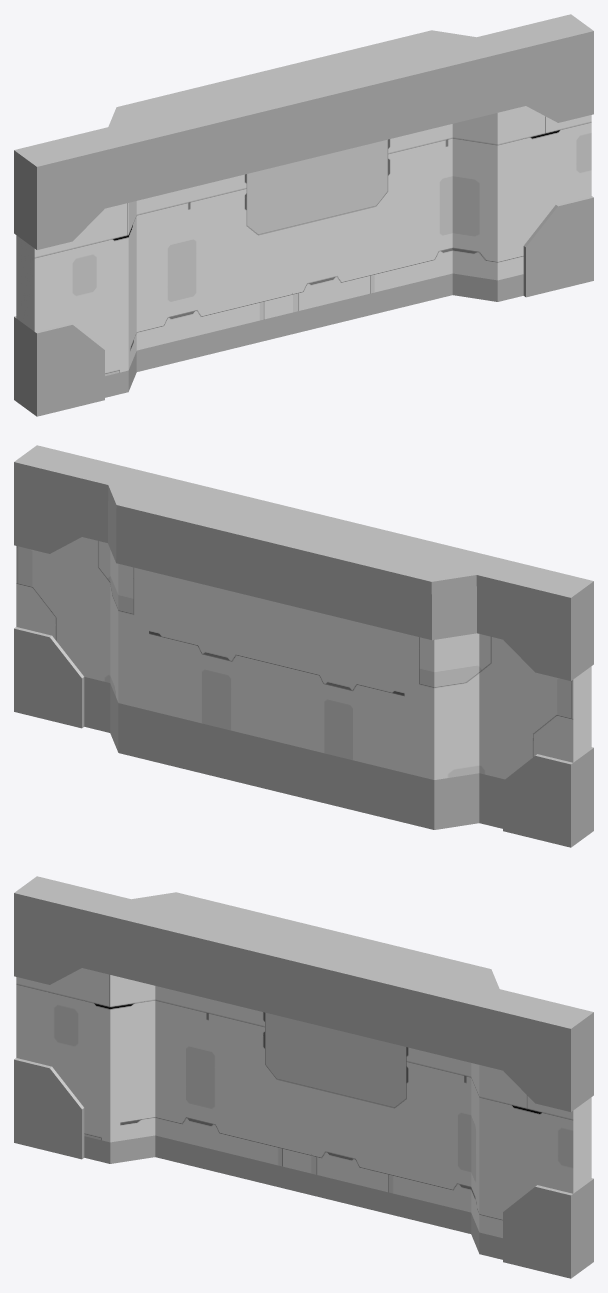
Rendered from SM_Wall_8x3_5.fbx.
The picture shows the model from 3 angles, top to bottom: view 1: azimuth 30°, elevation 25°; view 2: azimuth 150°, elevation 25°; view 3: azimuth 330°, elevation 25°; orthographic projection.
Parts seen in each view (by area): view 1: SM_Wall_8x3_5; view 2: SM_Wall_8x3_5; view 3: SM_Wall_8x3_5.
Boxes of the visible parts, <box> form: SM_Wall_8x3_5: <box>14,14,593,416</box>; SM_Wall_8x3_5: <box>14,445,593,847</box>; SM_Wall_8x3_5: <box>14,876,593,1278</box>.
Bounding box in the file's own units: 700 × 300 × 90.
